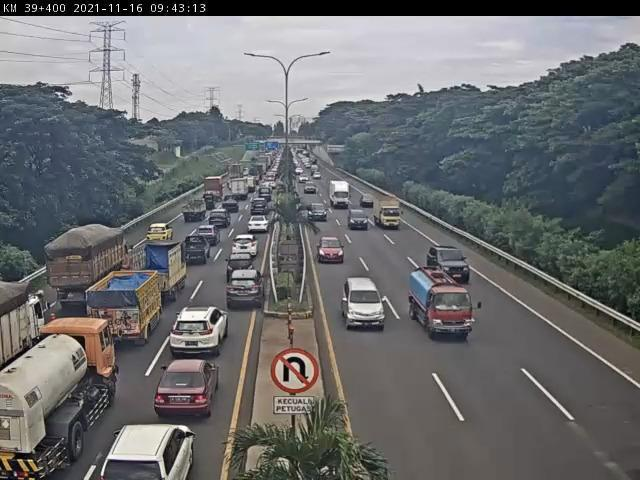car: (98, 418, 202, 480), (154, 358, 221, 421), (167, 305, 229, 355), (337, 277, 390, 331), (221, 271, 269, 317), (424, 245, 472, 290), (223, 251, 260, 284), (314, 233, 348, 265), (188, 225, 222, 250), (144, 223, 175, 247), (232, 237, 263, 261), (345, 207, 371, 232), (242, 216, 270, 238), (183, 200, 209, 223), (204, 211, 230, 232), (220, 192, 242, 215), (307, 204, 329, 222), (360, 194, 379, 213), (249, 203, 270, 220), (257, 188, 278, 203), (303, 180, 320, 195)
truck: (1, 314, 125, 480), (35, 226, 127, 318), (405, 265, 486, 341), (88, 272, 164, 347), (2, 278, 53, 369), (129, 244, 194, 307), (373, 197, 405, 233), (178, 237, 212, 269), (328, 181, 355, 211), (231, 177, 252, 203)
